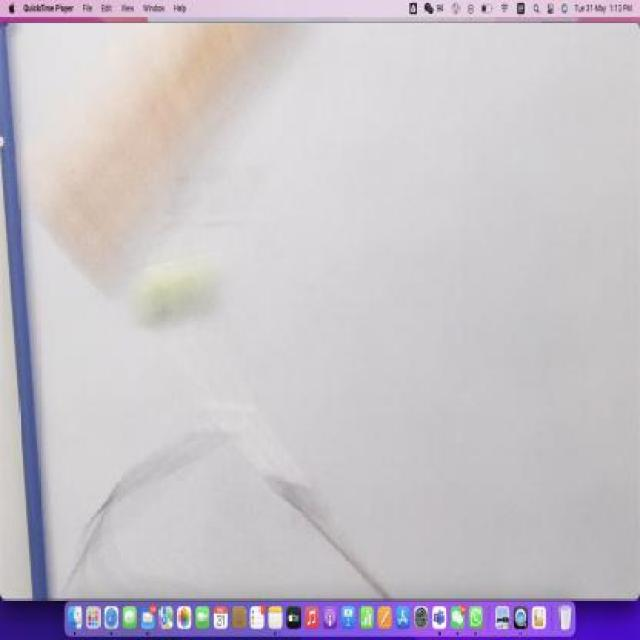baseball: (133, 262, 225, 328)
